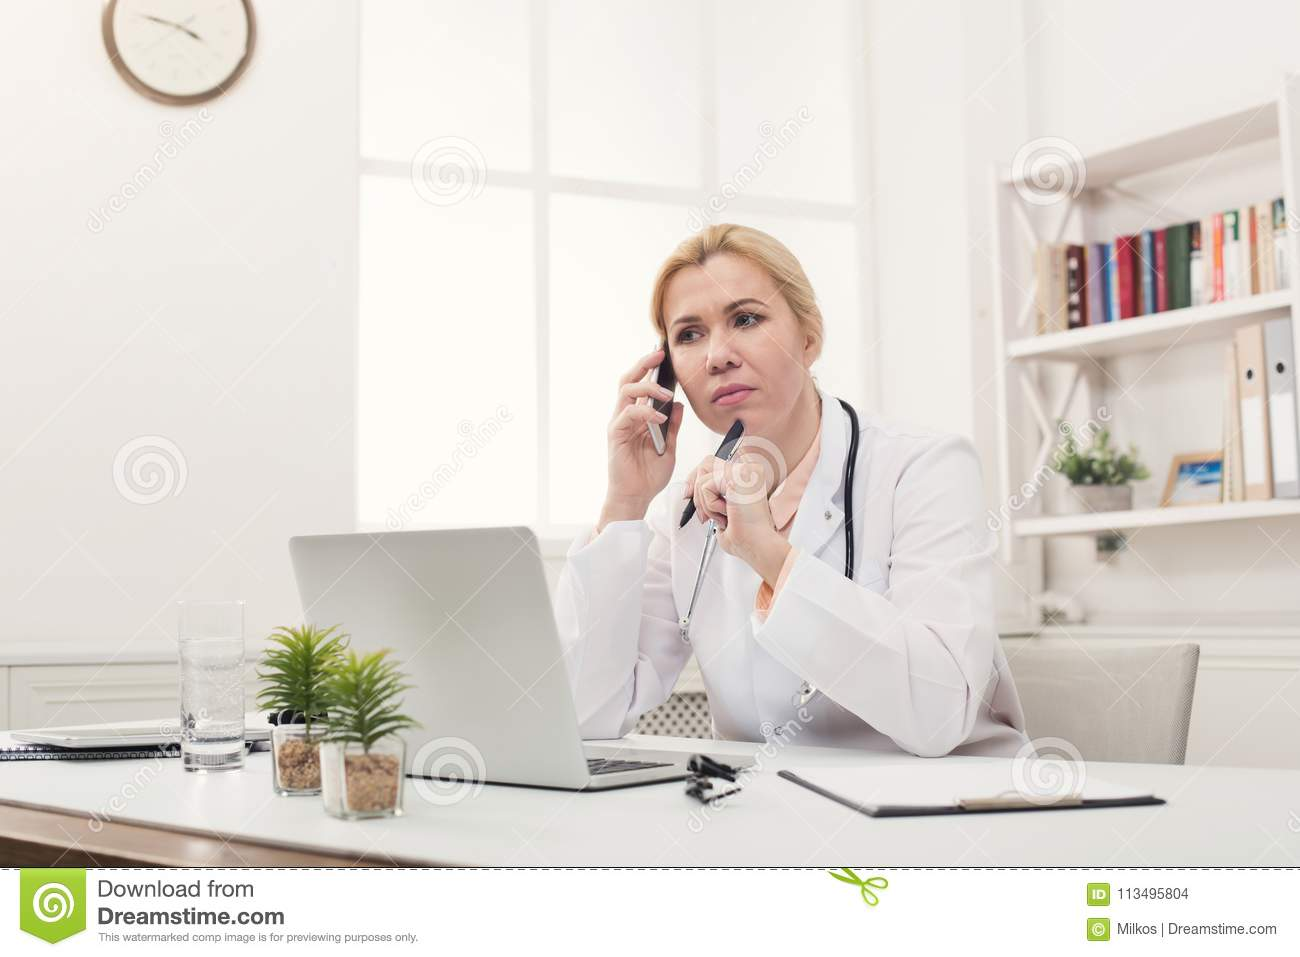phone: (649, 334, 677, 459)
talk: (602, 287, 775, 506)
